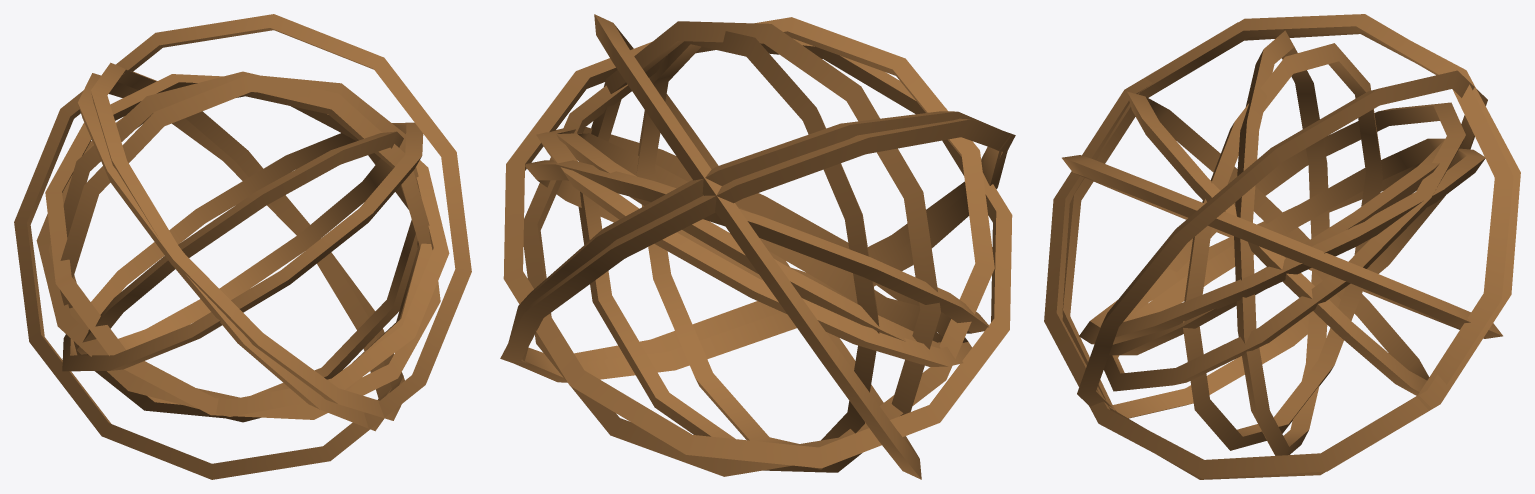
The model's file is W5_Tumbleweed.fbx.
3 views of the same model, side by side, from view 1: azimuth 30°, elevation 25°; view 2: azimuth 150°, elevation 25°; view 3: azimuth 270°, elevation 25° (orthographic). The views are drawn at different scales.
Visible parts, largest first — view 1: W5_Tumbleweed; view 2: W5_Tumbleweed; view 3: W5_Tumbleweed.
Part boxes in pixels (left/top/right/bottom): W5_Tumbleweed: left=14, top=14, right=471, bottom=479; W5_Tumbleweed: left=500, top=14, right=1015, bottom=479; W5_Tumbleweed: left=1044, top=14, right=1520, bottom=479.
Size of the model in its own units: 1.01 by 0.9879 by 1.07.
